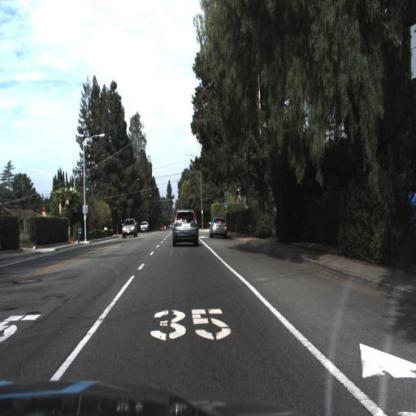car: (167, 201, 207, 255), (206, 212, 231, 243), (208, 215, 230, 241), (119, 215, 139, 243), (120, 216, 139, 241), (137, 217, 154, 237), (139, 220, 151, 236)
